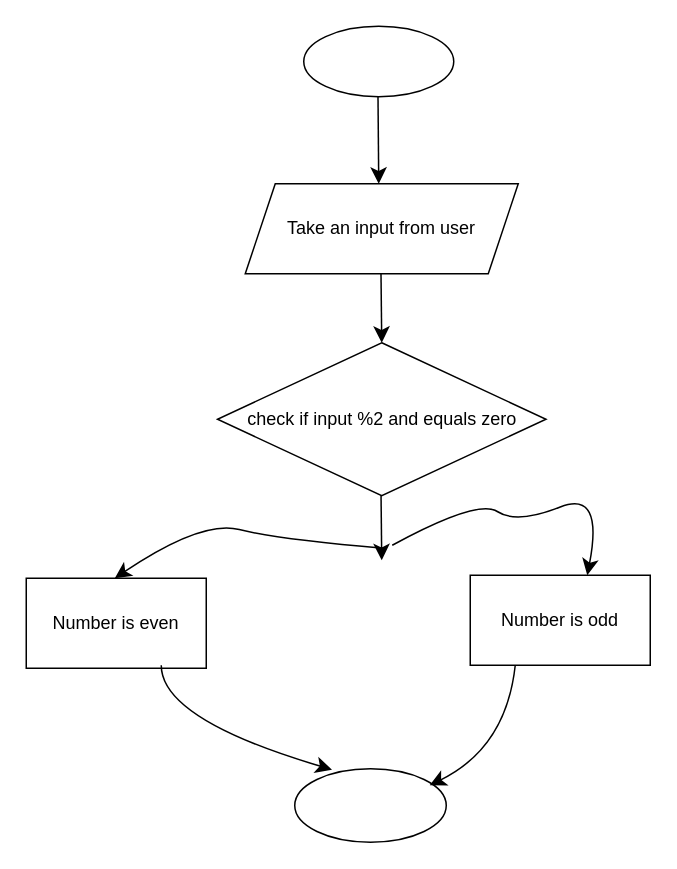
The diagram is 677 pixels wide and 869 high, and some of its shapes have lost their labels. Each missing label, with the centre of its shape:
END: [369,804]
START: [378,61]
